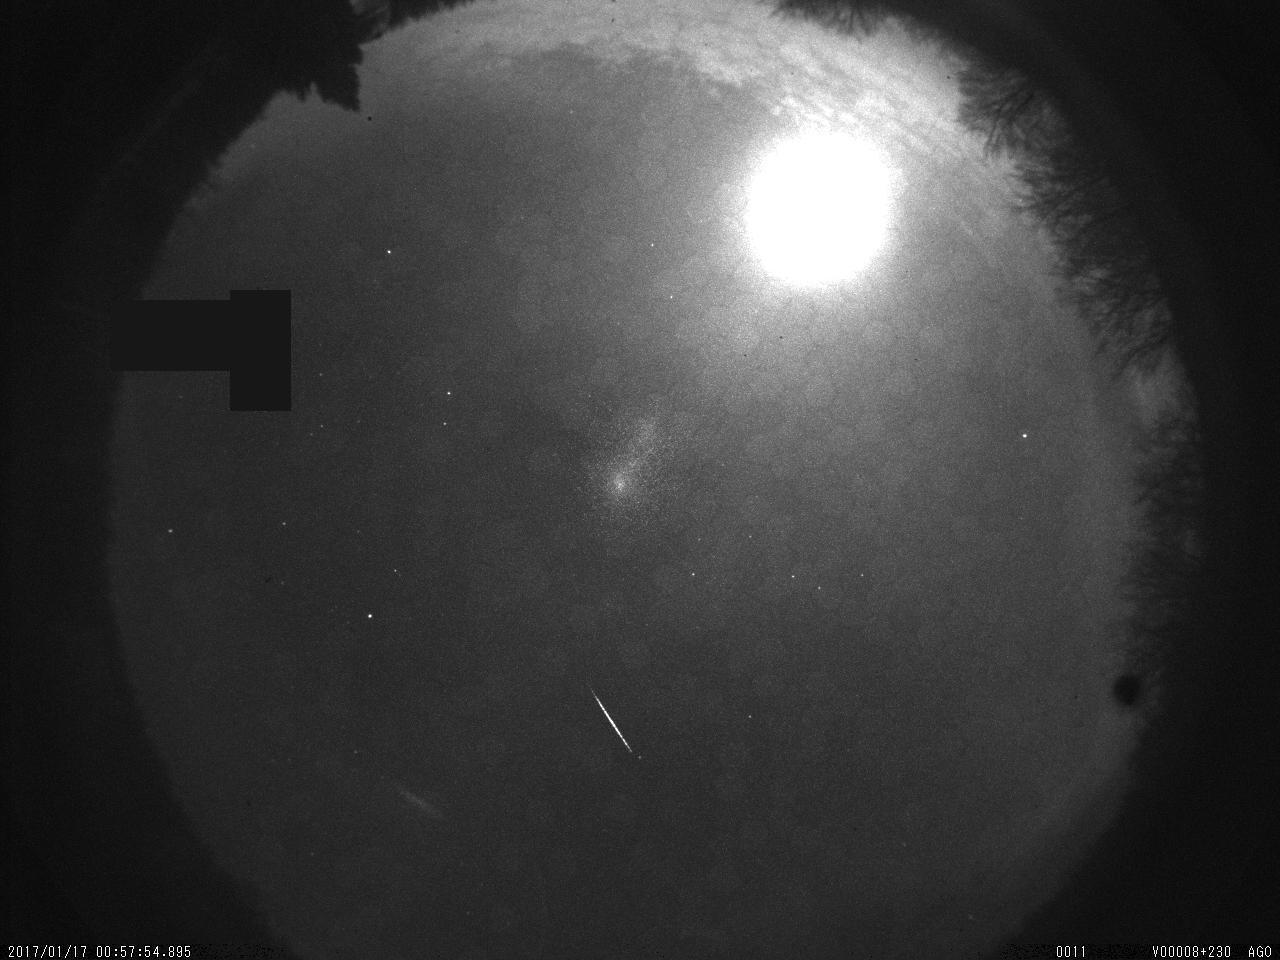Meteor: (588, 680, 637, 758)
